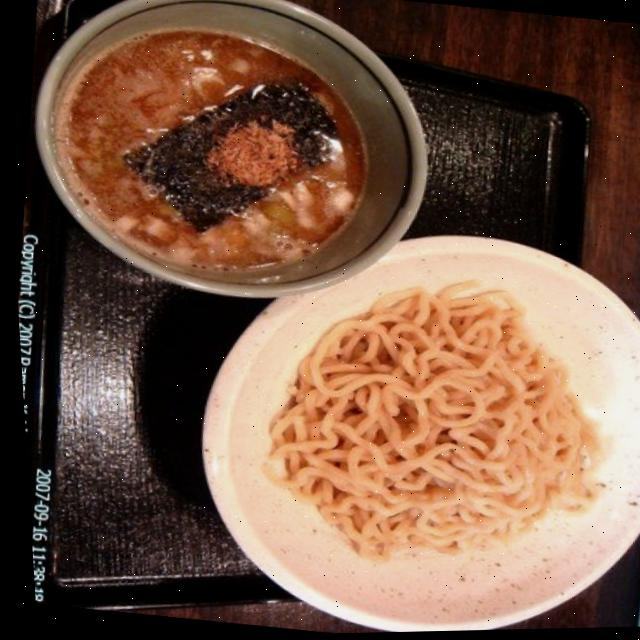面条主食: (1, 8, 640, 640)
